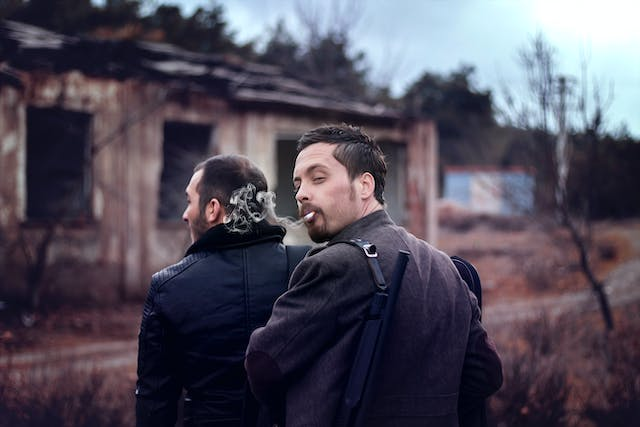Cigarette: (304, 211, 316, 220)
